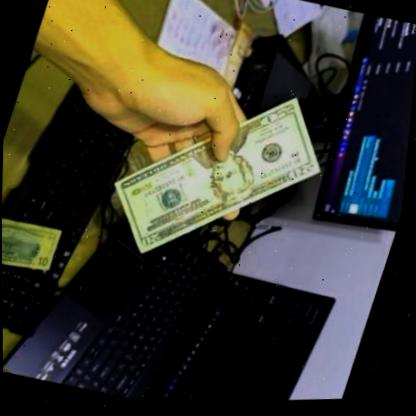ten-back: (1, 206, 71, 283)
twenty-front: (90, 57, 350, 303)
